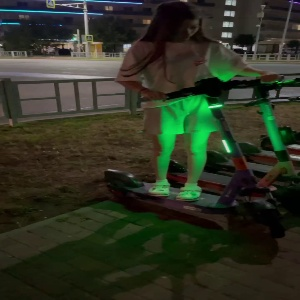human on a scooter: (103, 2, 286, 241)
